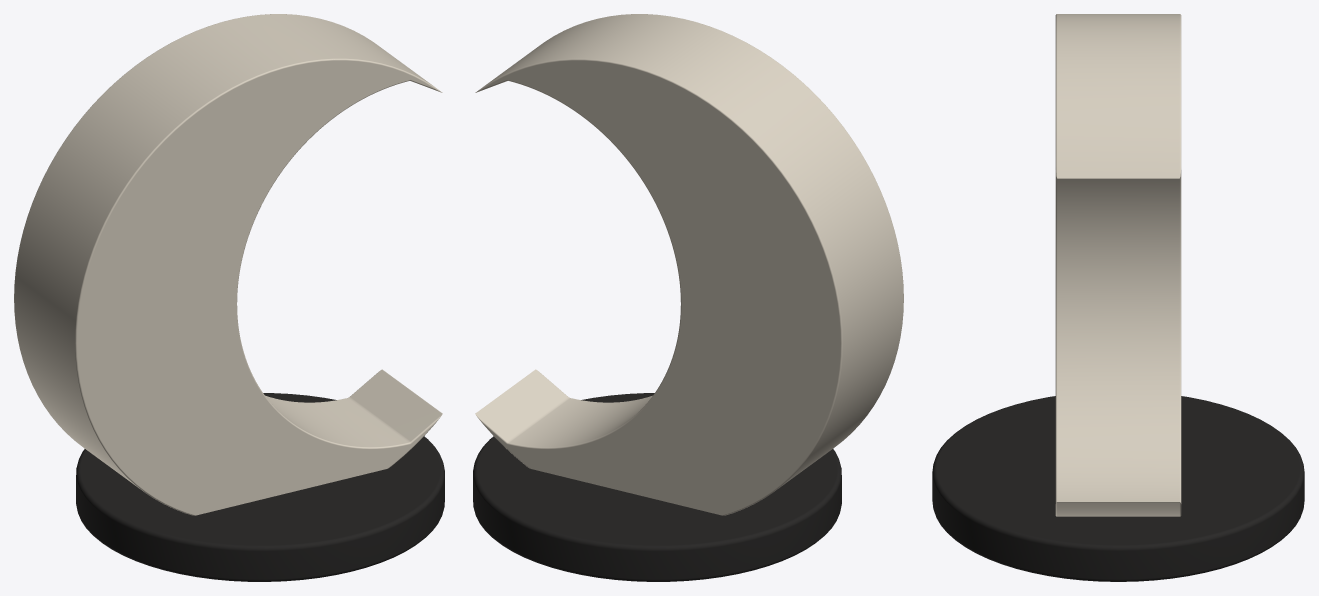
Rendered from VSV-029.glb.
3 renders of one model, left to right at view 1: azimuth 30°, elevation 25°; view 2: azimuth 150°, elevation 25°; view 3: azimuth 270°, elevation 25°, orthographic.
Visible parts, largest first — view 1: VSV-029_crescent__crescent, VSV-029_crescent__base; view 2: VSV-029_crescent__crescent, VSV-029_crescent__base; view 3: VSV-029_crescent__crescent, VSV-029_crescent__base.
Part boxes in pixels (x1,y1,x2,y2): VSV-029_crescent__crescent: (14, 14, 442, 515); VSV-029_crescent__base: (76, 393, 444, 581); VSV-029_crescent__crescent: (475, 14, 903, 515); VSV-029_crescent__base: (473, 393, 841, 581); VSV-029_crescent__crescent: (1055, 14, 1181, 516); VSV-029_crescent__base: (932, 396, 1304, 581).
Bounding box in the file's own units: 1.74 × 2.05 × 1.48.
